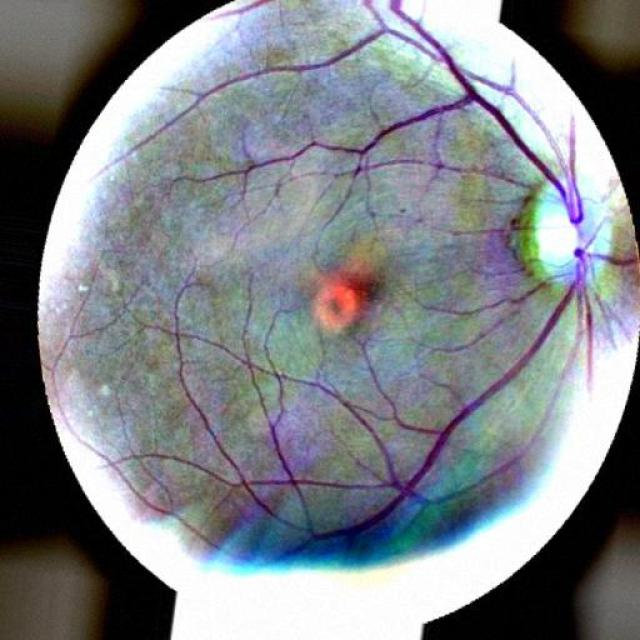Macula: (317, 282, 362, 328)
Nerves: (189, 0, 639, 540), (220, 408, 309, 516), (460, 261, 559, 315)
Optic Disk: (532, 183, 616, 289)
